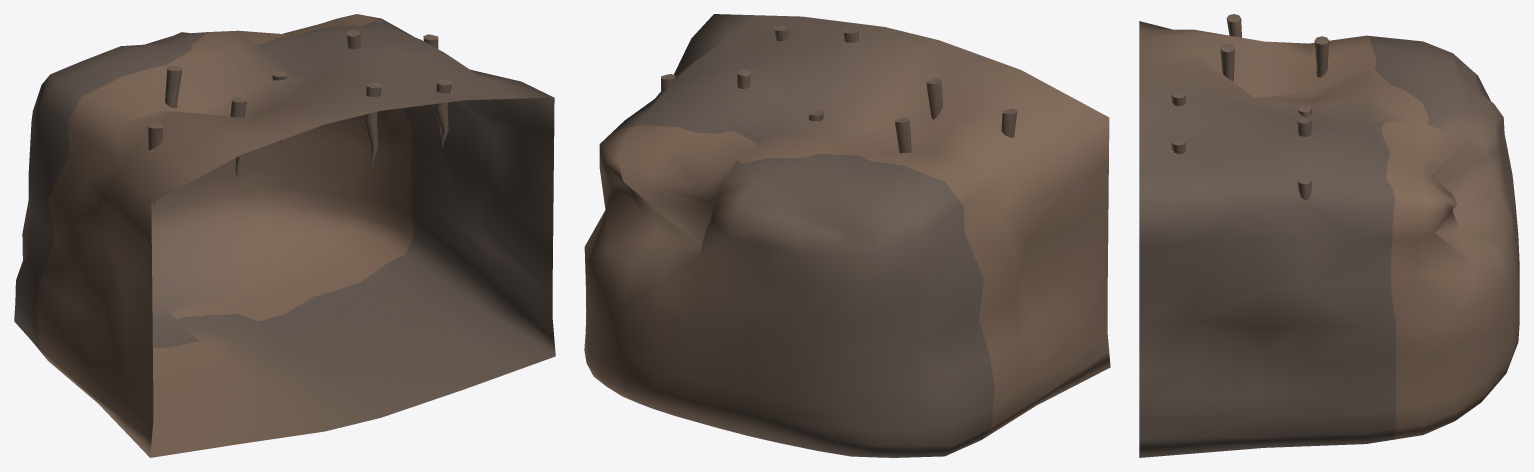
Rendered from Cave_box.fbx.
3 renders of one model, left to right at view 1: azimuth 30°, elevation 25°; view 2: azimuth 150°, elevation 25°; view 3: azimuth 270°, elevation 25°, orthographic. The views are drawn at different scales.
Visible parts, largest first — view 1: Object002, pCone2, pCone1, pCone4; view 2: Object002, pCone3; view 3: Object002, pCone4, pCone3.
Part boxes in pixels (x1,y1,x2,y2): Object002: (14, 14, 555, 457); pCone2: (364, 82, 381, 171); pCone1: (435, 79, 451, 148); pCone4: (165, 65, 182, 108); Object002: (584, 14, 1110, 457); pCone3: (926, 78, 942, 119); Object002: (1139, 21, 1519, 457); pCone4: (1314, 36, 1329, 77); pCone3: (1220, 44, 1234, 81).
Size of the model in its own units: 2116 by 1557 by 1752.
Materials: 2 (2 with a texture image).
